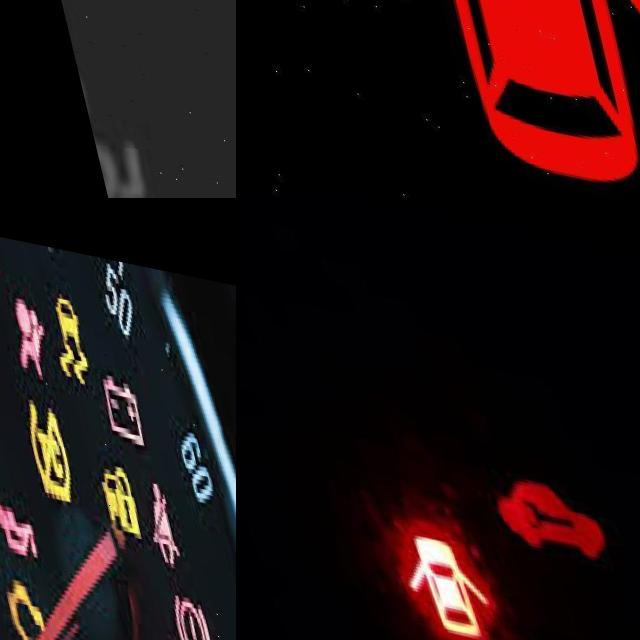Seat Belt: (129, 459, 170, 549)
